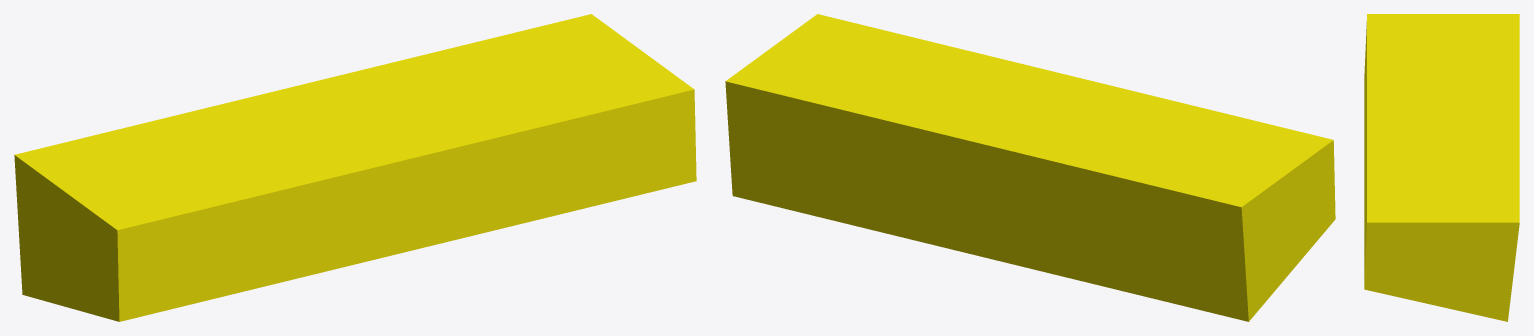
Rendered from side_beach.fbx.
3 views of the same model, side by side, from view 1: azimuth 30°, elevation 25°; view 2: azimuth 150°, elevation 25°; view 3: azimuth 270°, elevation 25° (orthographic). The views are drawn at different scales.
Visible parts, largest first — view 1: Box001.001; view 2: Box001.001; view 3: Box001.001.
Part boxes in pixels (<box>): Box001.001: <box>14,14,696,321</box>; Box001.001: <box>725,14,1335,321</box>; Box001.001: <box>1364,14,1519,321</box>.
Size of the model in its own units: 400 by 88.81 by 126.
